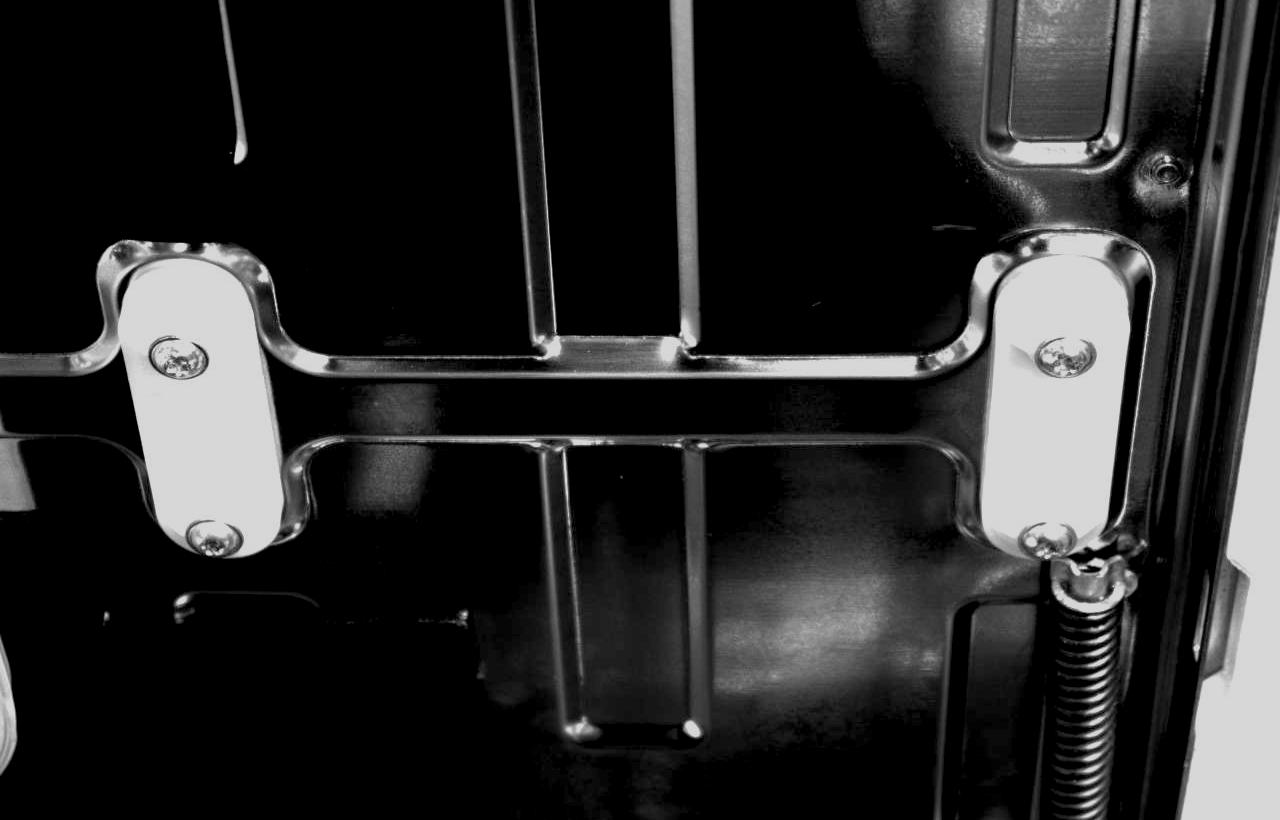vida-ok: (139, 319, 226, 397), (1017, 322, 1105, 395), (175, 509, 252, 573), (1010, 506, 1085, 565)
